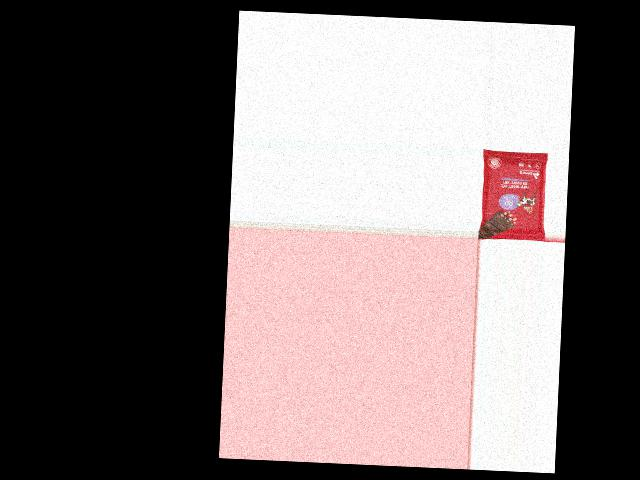chocolate: (480, 148, 549, 241)
